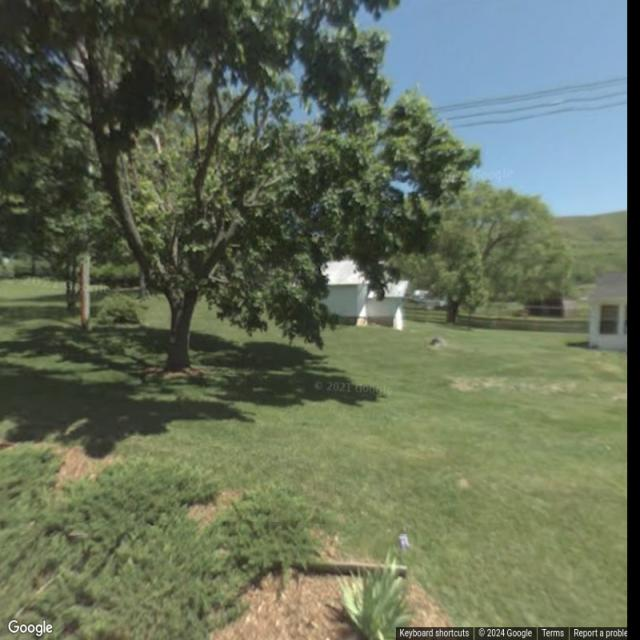House: (320, 260, 410, 331), (588, 272, 626, 346)
